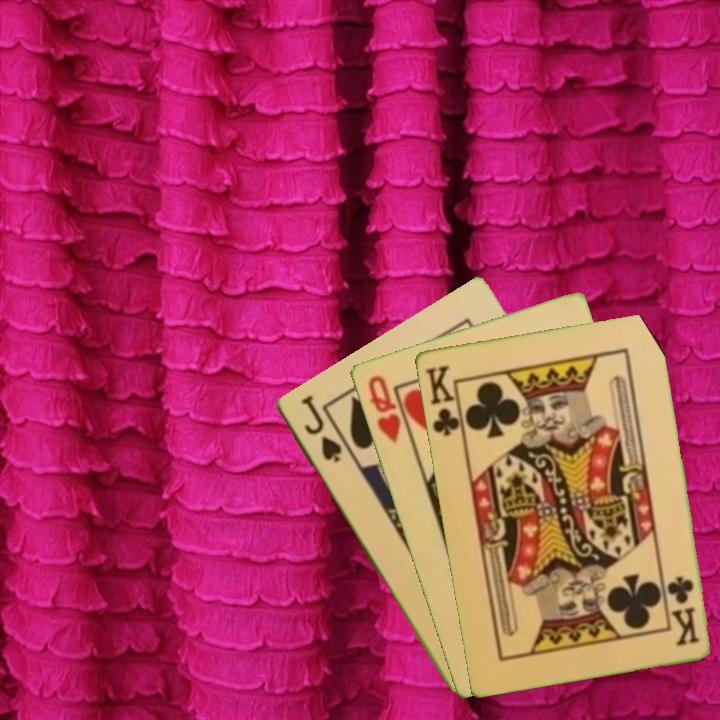Js: (296, 393, 344, 466)
Kc: (421, 361, 465, 439), (664, 572, 702, 649)
Qh: (364, 371, 403, 446)
